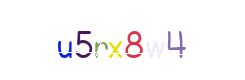4: (98, 0, 178, 80)
5: (44, 0, 124, 80)
8: (87, 0, 167, 80)
R: (75, 0, 155, 80)
U: (24, 0, 104, 80)
W: (94, 0, 174, 80)
X: (82, 0, 162, 80)
